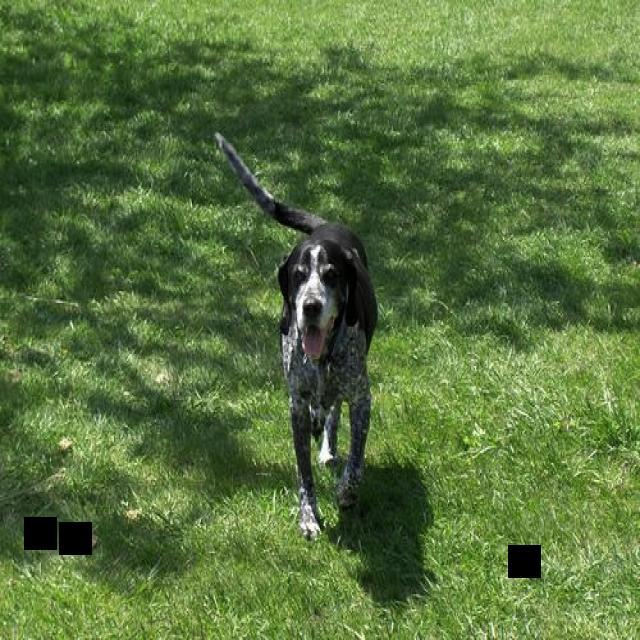adult_dog: (212, 133, 379, 542)
